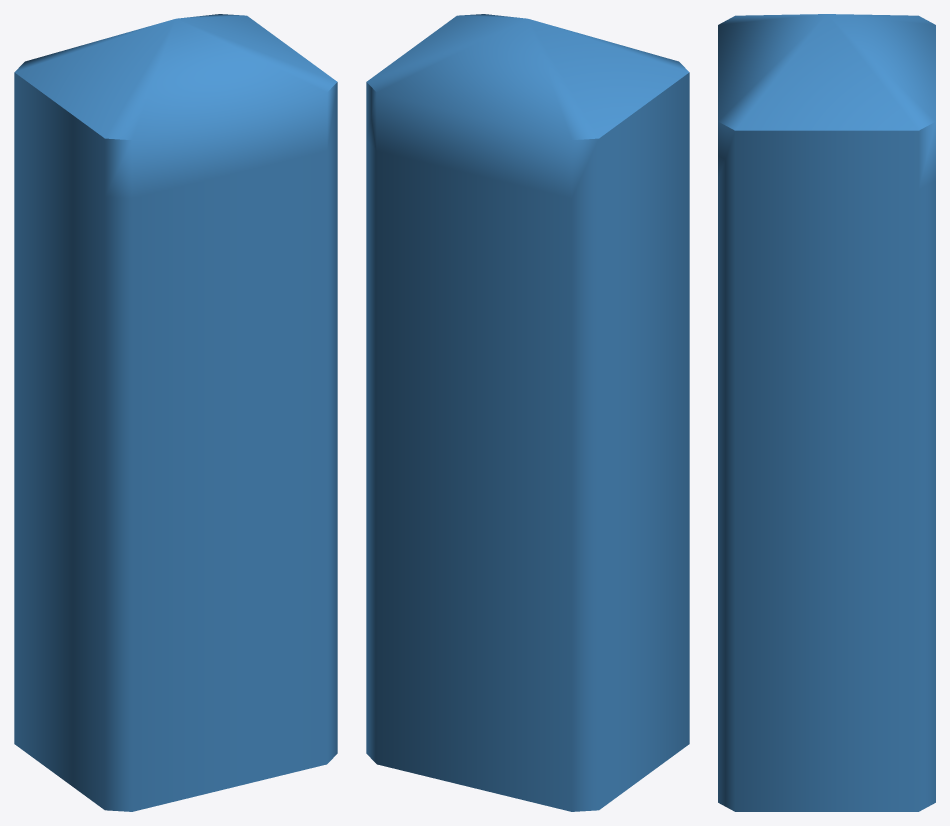
Rendered from Deco_Fence_Column_B.fbx.
3 views of the same model, side by side, from view 1: azimuth 30°, elevation 25°; view 2: azimuth 150°, elevation 25°; view 3: azimuth 270°, elevation 25° (orthographic).
Visible parts, largest first — view 1: Deco_Fence_Column_B; view 2: Deco_Fence_Column_B; view 3: Deco_Fence_Column_B.
Boxes of the visible parts, box(x1,y1,x2,y2) form: Deco_Fence_Column_B: box(14, 14, 337, 811); Deco_Fence_Column_B: box(366, 14, 689, 811); Deco_Fence_Column_B: box(718, 14, 935, 811).
Bounding box in the file's own units: 50 × 150 × 40.
